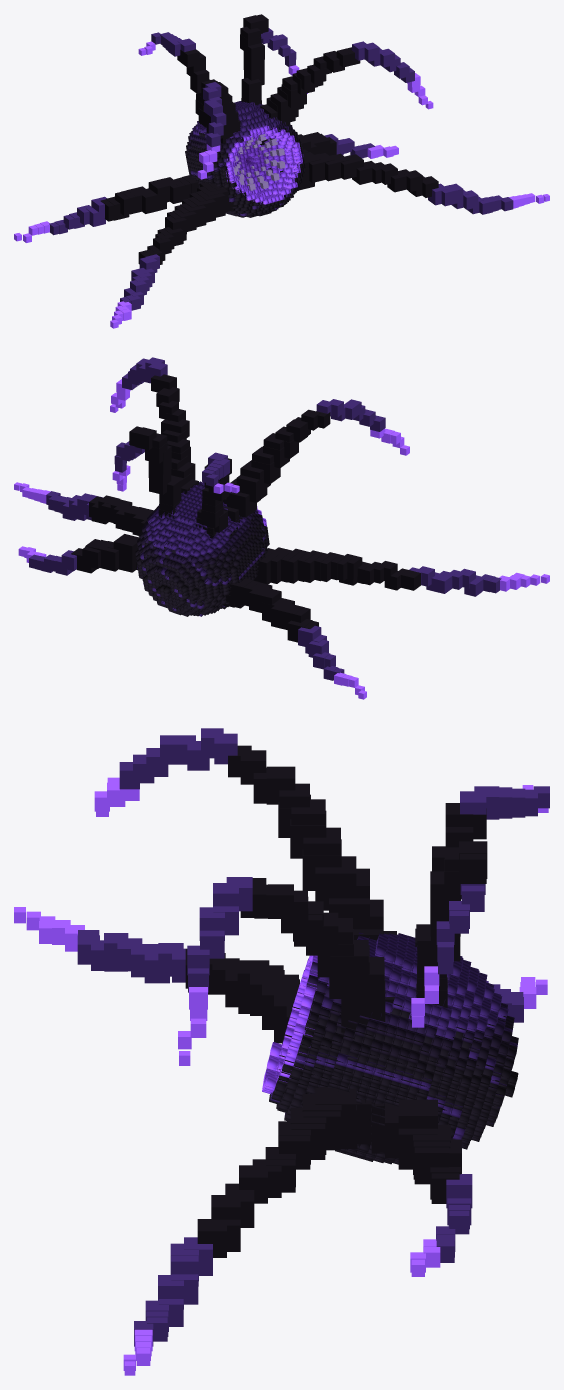
The model's file is cosmic-horror_open-front.glb.
The picture shows the model from 3 angles, top to bottom: view 1: azimuth 30°, elevation 25°; view 2: azimuth 150°, elevation 25°; view 3: azimuth 270°, elevation 25°; orthographic projection. The views are drawn at different scales.
Parts seen in each view (by area): view 1: body_voxels, gullet_voxels, tentacle_5_vox_4, tentacle_1_vox_5; view 2: body_voxels, tentacle_3_vox_7, tentacle_4_vox_5, tentacle_4_vox_3, tentacle_2_vox_12, tentacle_3_vox_10, tentacle_2_vox_9; view 3: body_voxels, gullet_voxels, tentacle_5_vox_5, tentacle_5_vox_3, tentacle_1_vox_4, tentacle_4_vox_6, tentacle_3_vox_7, tentacle_3_vox_12, tentacle_4_vox_4, tentacle_1_vox_20, tentacle_4_vox_14, tentacle_7_vox_9 (+14 smaller).
Boxes of the visible parts, left/top/right/bottom form: body_voxels: left=185, top=101, right=305, bottom=217; gullet_voxels: left=225, top=125, right=302, bottom=204; tentacle_5_vox_4: left=270, top=93, right=298, bottom=120; tentacle_1_vox_5: left=309, top=153, right=329, bottom=182; body_voxels: left=135, top=481, right=269, bottom=616; tentacle_3_vox_7: left=113, top=534, right=139, bottom=565; tentacle_4_vox_5: left=236, top=475, right=267, bottom=502; tentacle_4_vox_3: left=226, top=492, right=256, bottom=517; tentacle_2_vox_12: left=271, top=601, right=297, bottom=629; tentacle_3_vox_10: left=97, top=541, right=118, bottom=571; tentacle_2_vox_9: left=255, top=587, right=281, bottom=612; body_voxels: left=269, top=932, right=518, bottom=1164; gullet_voxels: left=262, top=955, right=317, bottom=1094; tentacle_5_vox_5: left=330, top=940, right=368, bottom=990; tentacle_5_vox_3: left=342, top=957, right=384, bottom=1012; tentacle_1_vox_4: left=315, top=1087, right=356, bottom=1141; tentacle_4_vox_6: left=315, top=856, right=356, bottom=910; tentacle_3_vox_7: left=398, top=1099, right=437, bottom=1128; tentacle_3_vox_12: left=414, top=1147, right=449, bottom=1184; tentacle_4_vox_4: left=329, top=898, right=369, bottom=929; tentacle_1_vox_20: left=197, top=1219, right=226, bottom=1257; tentacle_4_vox_14: left=266, top=766, right=295, bottom=804; tentacle_7_vox_9: left=430, top=871, right=460, bottom=911.
Size of the model in its own units: 9.99 by 3.82 by 5.08.
